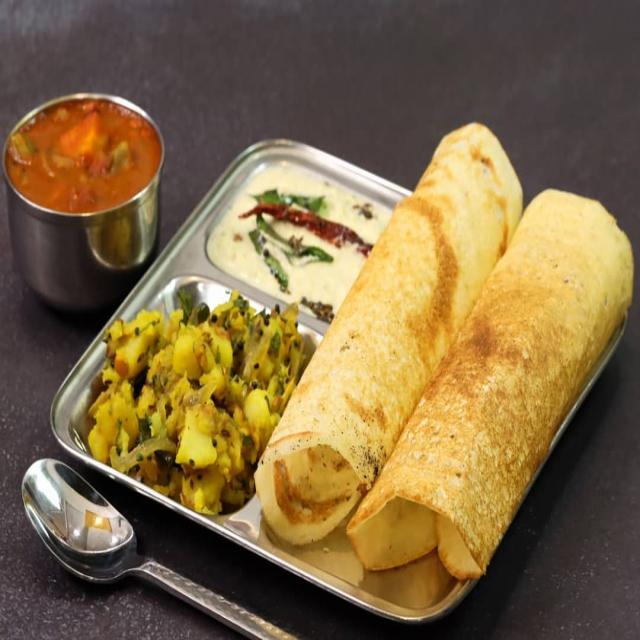plain dosa: (341, 186, 634, 593), (260, 119, 446, 534), (442, 535, 446, 545)
